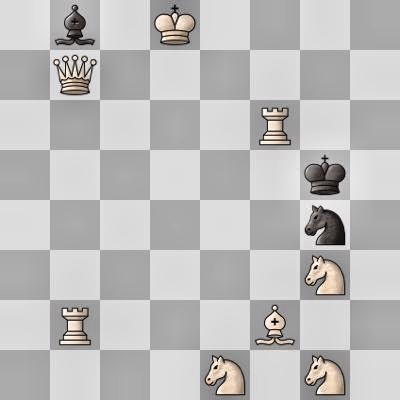black-bishop: (50, 0, 100, 50)
black-king: (300, 150, 350, 200)
black-knight: (300, 200, 350, 250)
white-bishop: (250, 300, 300, 350)
white-king: (150, 0, 200, 50)
white-knight: (300, 250, 350, 300), (200, 350, 250, 400), (300, 350, 350, 400)
white-queen: (50, 50, 100, 100)
white-rook: (250, 100, 300, 150), (50, 300, 100, 350)
